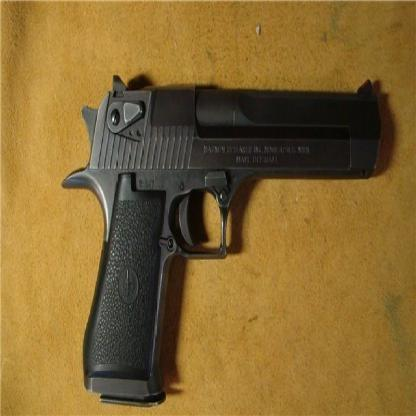Pistol: (55, 61, 386, 410)
